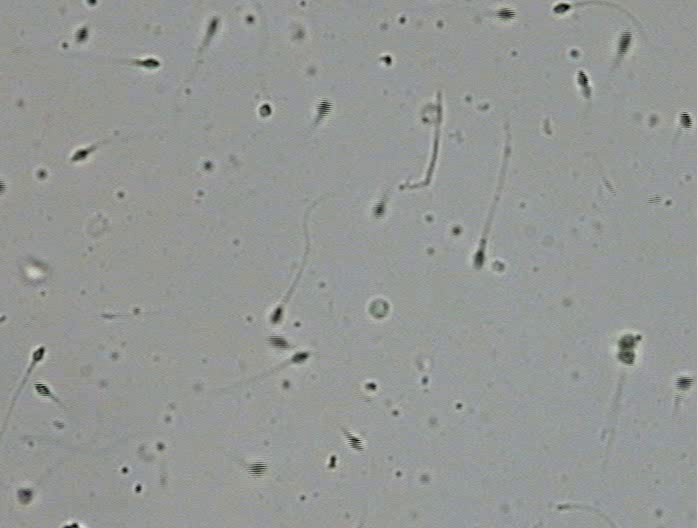Impurity: (369, 298, 390, 319)
S: (618, 334, 636, 365), (618, 30, 632, 55), (345, 433, 364, 451), (316, 98, 333, 118), (674, 376, 694, 391), (248, 462, 267, 477), (269, 335, 288, 349), (496, 7, 515, 20), (17, 489, 33, 504), (34, 383, 51, 397), (473, 250, 485, 269), (75, 27, 89, 43), (680, 111, 692, 129), (577, 69, 588, 88), (71, 149, 88, 161), (140, 58, 160, 68), (207, 18, 218, 36), (291, 352, 309, 363), (553, 3, 571, 14), (32, 347, 45, 362), (373, 202, 385, 218), (271, 307, 282, 323), (259, 104, 272, 117), (1, 180, 6, 194), (86, 1, 97, 7)
